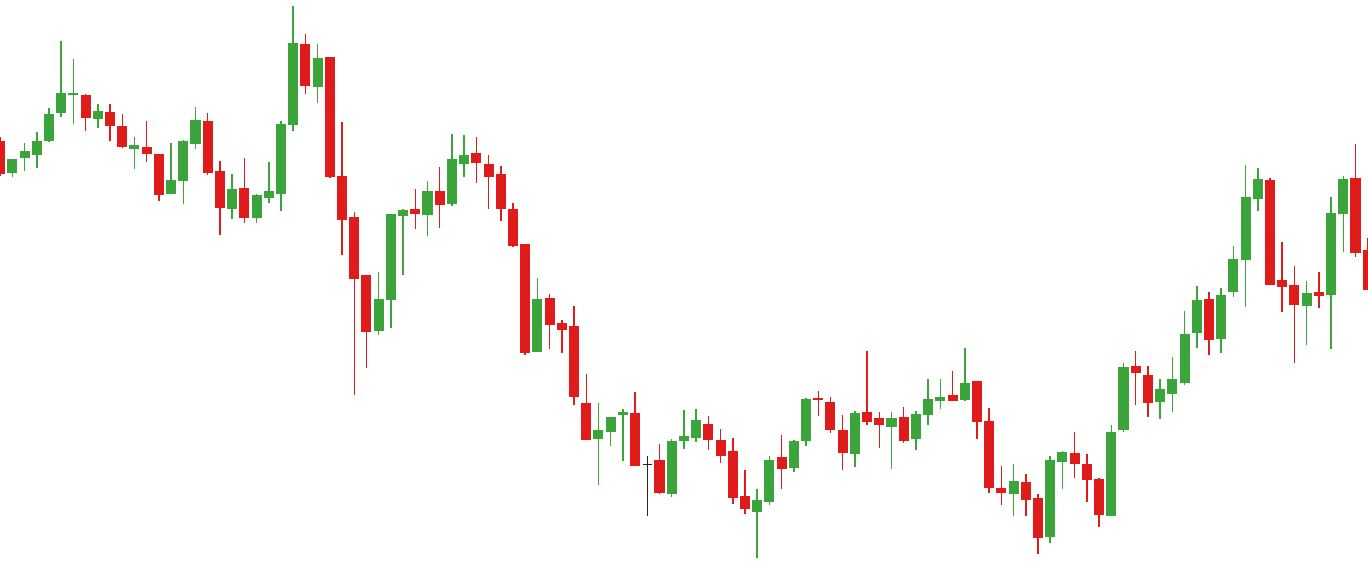buy: (1190, 220, 1314, 363), (643, 430, 763, 565)
sell: (54, 2, 312, 153), (799, 353, 874, 462)
